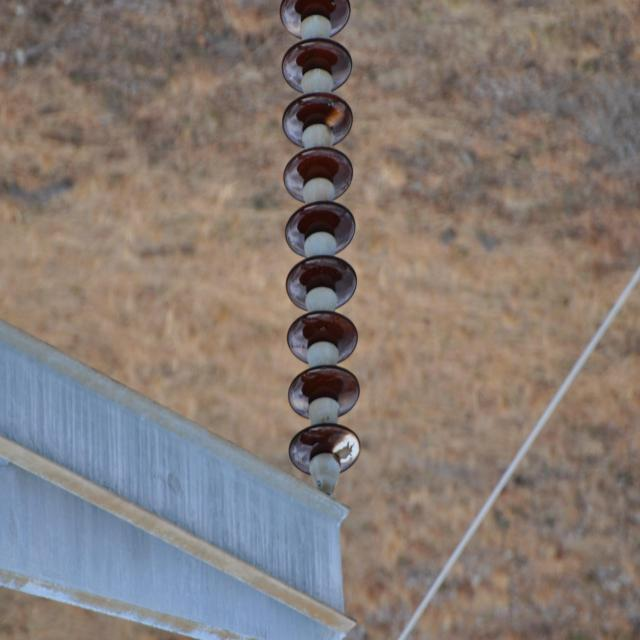insulator: (277, 0, 361, 473)
